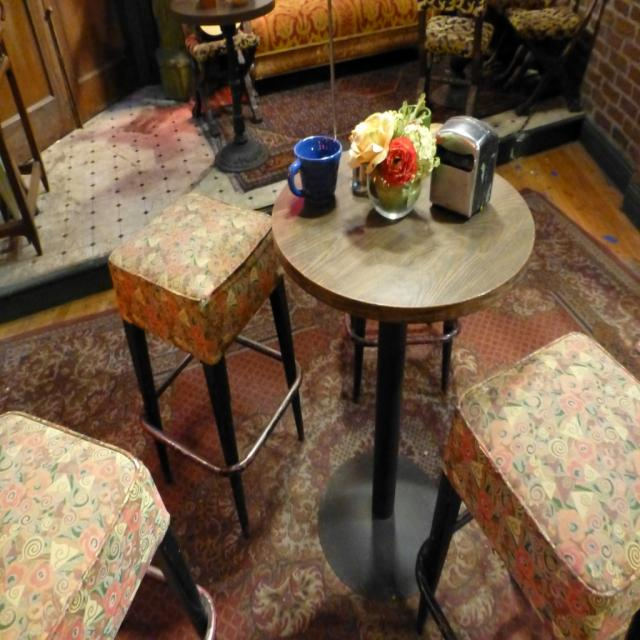chair: (414, 328, 640, 639), (0, 406, 213, 640), (478, 0, 604, 118), (0, 3, 49, 257)
desk: (270, 140, 536, 604)
